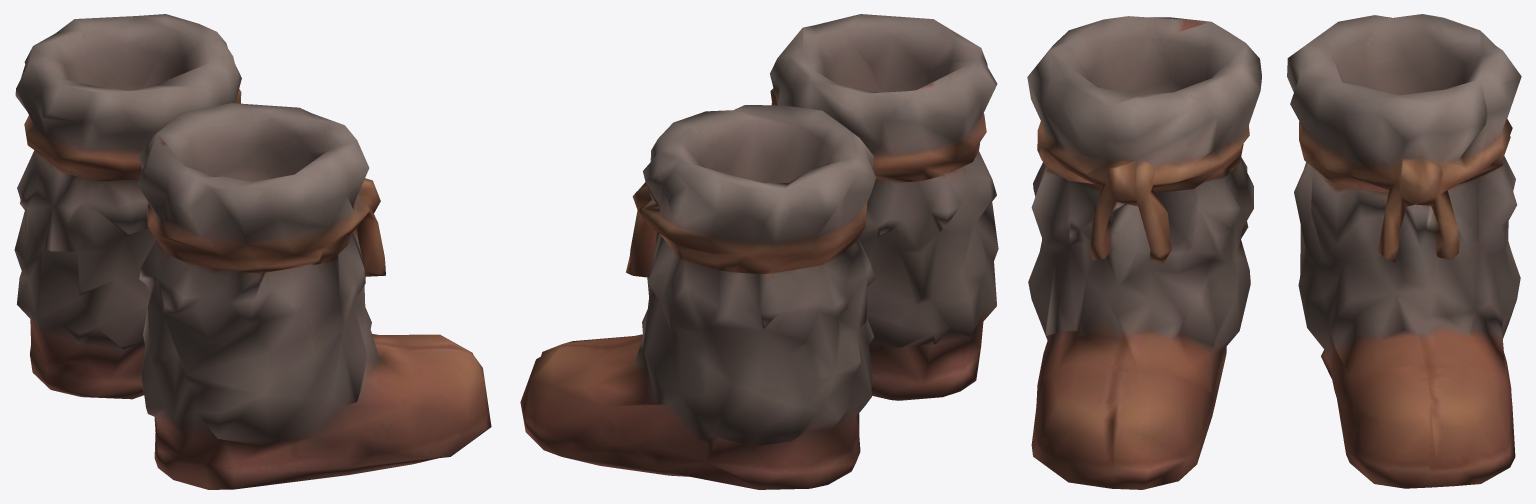
The model's file is loot_boots_fur-jiY_g-gZ.glb.
3 renders of one model, left to right at view 1: azimuth 30°, elevation 25°; view 2: azimuth 150°, elevation 25°; view 3: azimuth 270°, elevation 25°, orthographic. The views are drawn at different scales.
Parts seen in each view (by area): view 1: tripo_node_f3c0be30-1819-439f-9025-5cf75bb8f64f; view 2: tripo_node_f3c0be30-1819-439f-9025-5cf75bb8f64f; view 3: tripo_node_f3c0be30-1819-439f-9025-5cf75bb8f64f.
Part boxes in pixels (left/top/right/bottom): tripo_node_f3c0be30-1819-439f-9025-5cf75bb8f64f: left=14, top=14, right=491, bottom=489; tripo_node_f3c0be30-1819-439f-9025-5cf75bb8f64f: left=520, top=14, right=998, bottom=489; tripo_node_f3c0be30-1819-439f-9025-5cf75bb8f64f: left=1027, top=14, right=1521, bottom=489.
Size of the model in its own units: 0.7879 by 0.7416 by 1.
1 material, 1 textured.
